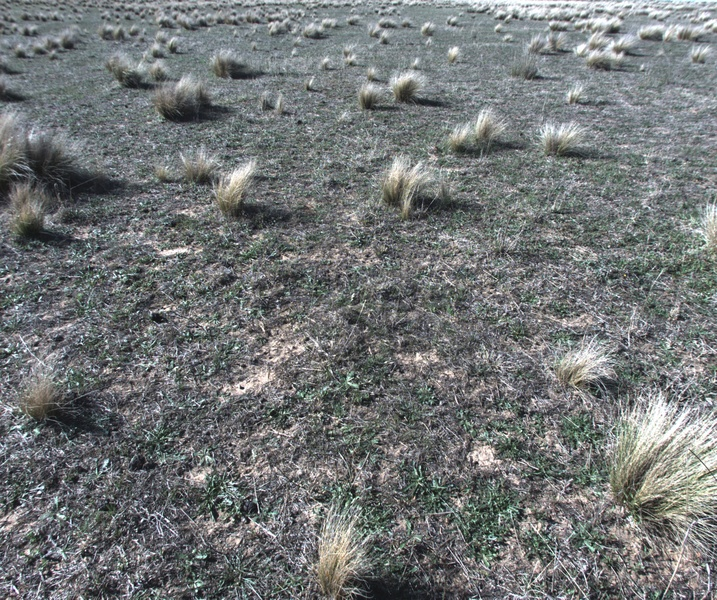st: (597, 393, 717, 532), (290, 504, 381, 600), (17, 126, 101, 213), (206, 155, 261, 223), (383, 160, 429, 222), (19, 371, 65, 430), (5, 191, 46, 249), (552, 350, 607, 392), (154, 77, 206, 121), (693, 201, 717, 262), (178, 147, 214, 187), (209, 48, 250, 83), (542, 121, 581, 157), (1, 120, 23, 181), (107, 54, 141, 91), (391, 74, 423, 105), (473, 109, 499, 146), (447, 121, 474, 153), (587, 51, 625, 70), (584, 28, 611, 53), (358, 80, 381, 109), (61, 24, 82, 51), (542, 30, 565, 53), (145, 160, 170, 181), (378, 15, 403, 36), (444, 41, 465, 66), (303, 22, 326, 43), (523, 34, 542, 59), (439, 176, 455, 205), (344, 46, 363, 69), (164, 37, 186, 56), (611, 34, 633, 53), (572, 43, 597, 59), (16, 39, 32, 63), (32, 40, 50, 61), (643, 26, 665, 42), (675, 24, 694, 42), (272, 91, 284, 118), (45, 33, 62, 51), (314, 58, 335, 72), (151, 63, 165, 83), (693, 43, 707, 63), (567, 86, 580, 106), (406, 53, 422, 69), (319, 12, 336, 27), (258, 92, 270, 109), (113, 26, 125, 43), (103, 23, 113, 43), (498, 33, 513, 45), (368, 64, 380, 78), (305, 73, 317, 86), (419, 24, 436, 33), (370, 23, 380, 38), (152, 45, 163, 58), (156, 29, 169, 40), (343, 14, 362, 21), (494, 18, 501, 34)
